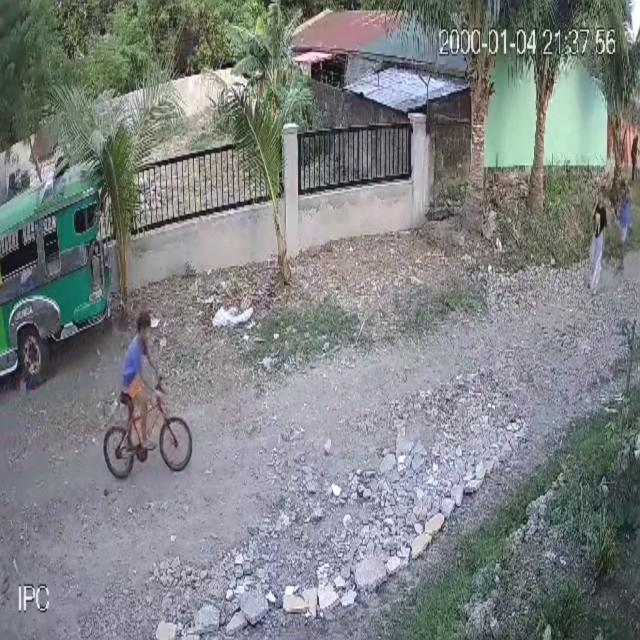walking: (586, 190, 609, 295), (612, 179, 635, 274)
